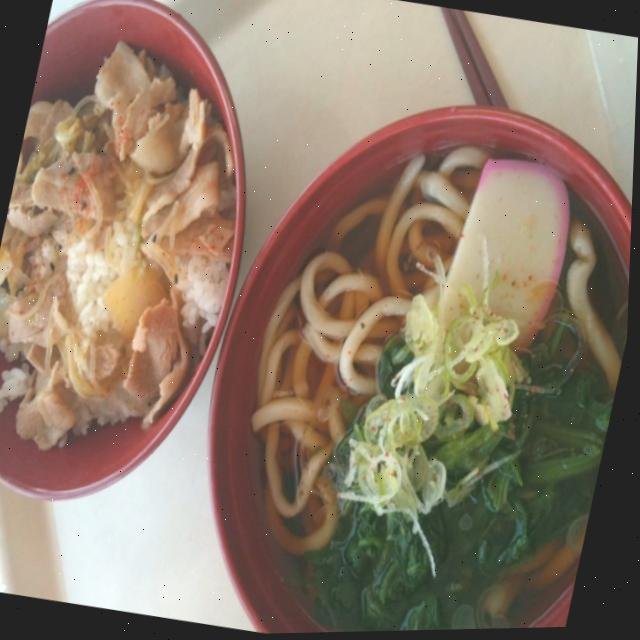面条主食: (164, 62, 638, 637)
